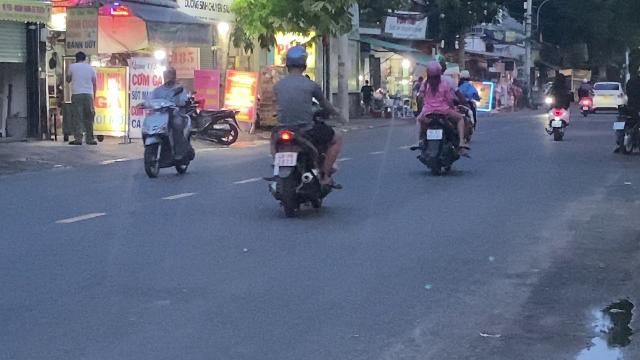helmet: (282, 46, 310, 74), (424, 60, 442, 80), (159, 66, 177, 84)
licenseplate: (275, 152, 297, 166), (426, 129, 442, 139)
motorcyclist: (263, 45, 343, 217), (411, 59, 473, 175), (138, 66, 196, 178)
